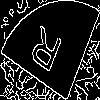R: (24, 25, 64, 82)
